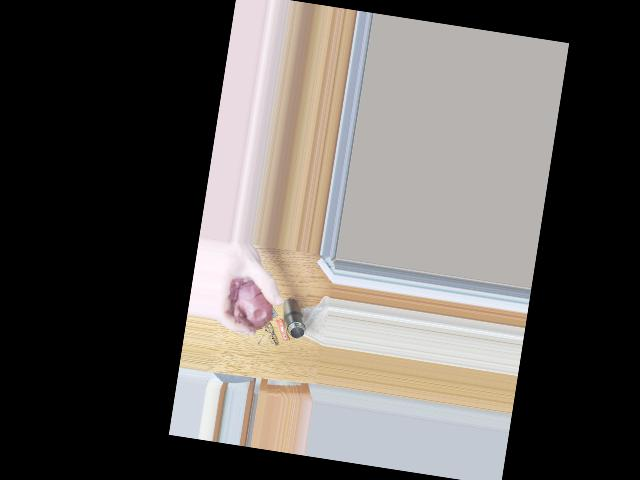onion: (225, 274, 271, 337)
